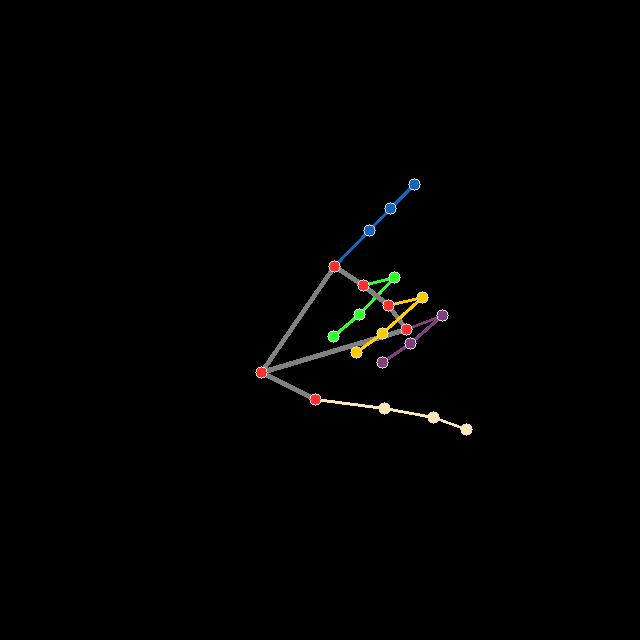skr: (253, 175, 474, 437)
